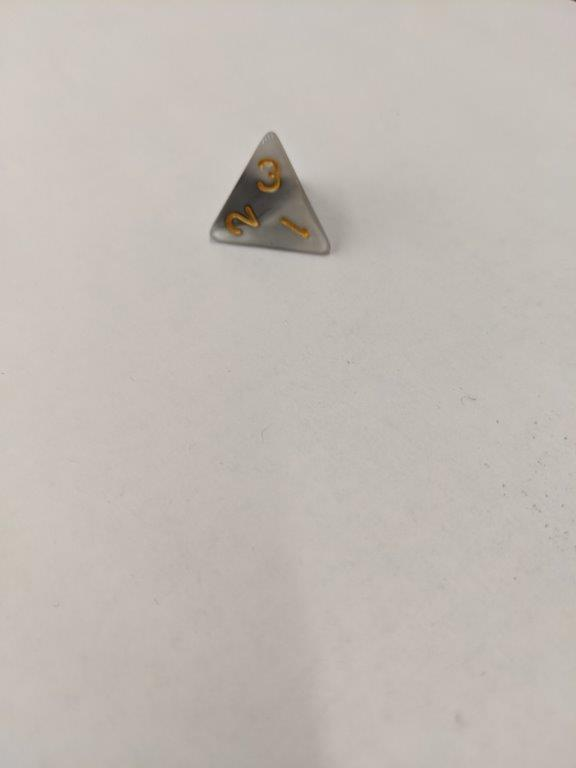d4-3: (204, 127, 336, 264)
